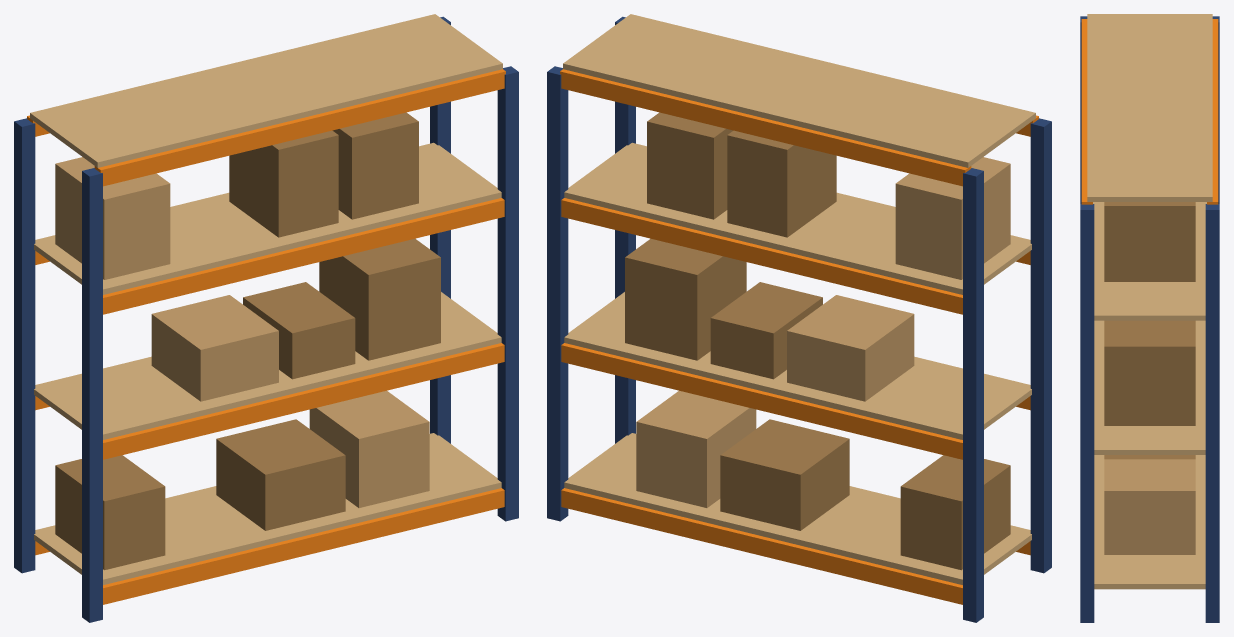
The model's file is PRP_Shelving.fbx.
3 renders of one model, left to right at view 1: azimuth 30°, elevation 25°; view 2: azimuth 150°, elevation 25°; view 3: azimuth 270°, elevation 25°, orthographic. The views are drawn at different scales.
Parts seen in each view (by area): view 1: PRP_Shelving; view 2: PRP_Shelving; view 3: PRP_Shelving.
Boxes of the visible parts, x1,y1,x2,y2 form: PRP_Shelving: [14, 14, 518, 622]; PRP_Shelving: [547, 14, 1051, 622]; PRP_Shelving: [1080, 14, 1219, 622].
Bounding box in the file's own units: 8.05 × 8.15 × 2.45.
